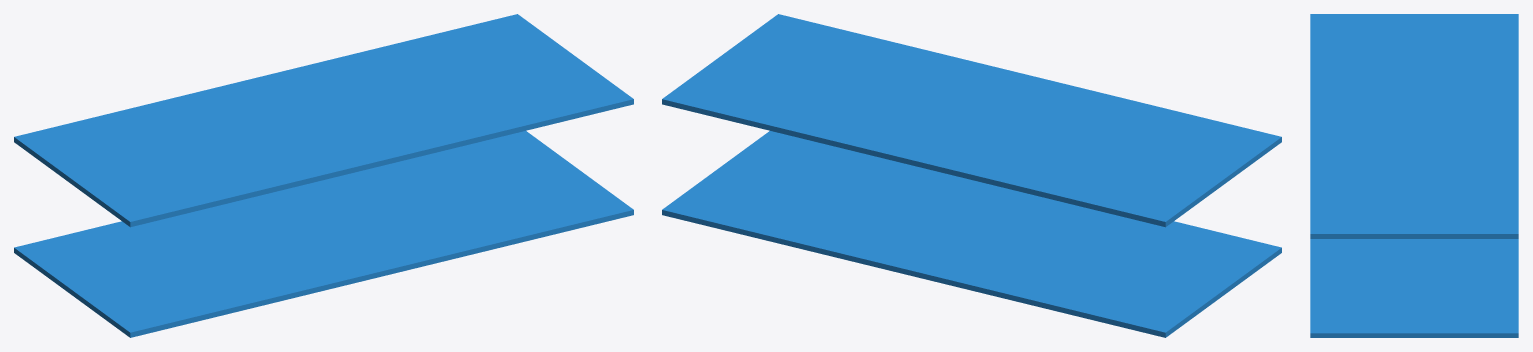
Rendered from RiverTile_Straight.fbx.
3 views of the same model, side by side, from view 1: azimuth 30°, elevation 25°; view 2: azimuth 150°, elevation 25°; view 3: azimuth 270°, elevation 25° (orthographic). The views are drawn at different scales.
Parts seen in each view (by area): view 1: River_Tile_Straight; view 2: River_Tile_Straight; view 3: River_Tile_Straight.
Part boxes in pixels (left/top/right/bottom): River_Tile_Straight: left=14, top=14, right=633, bottom=337; River_Tile_Straight: left=662, top=14, right=1281, bottom=337; River_Tile_Straight: left=1310, top=14, right=1518, bottom=337.
Bounding box in the file's own units: 100 × 22 × 40.
